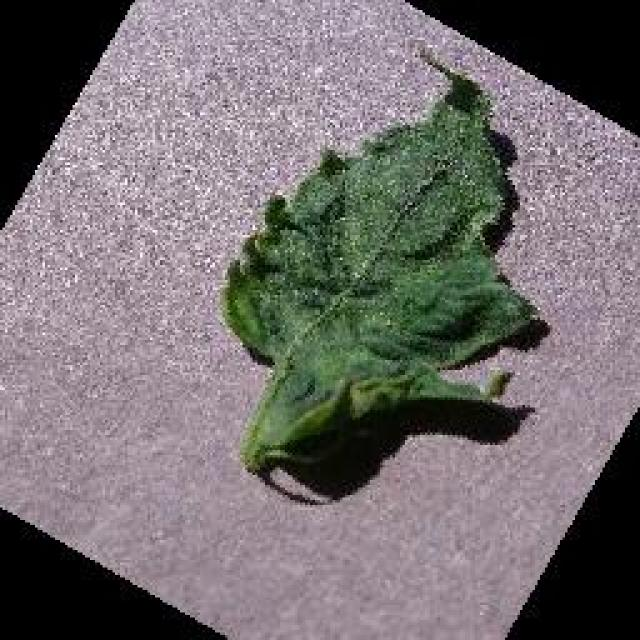Tomato___Tomato_mosaic_virus: (225, 72, 535, 468)
